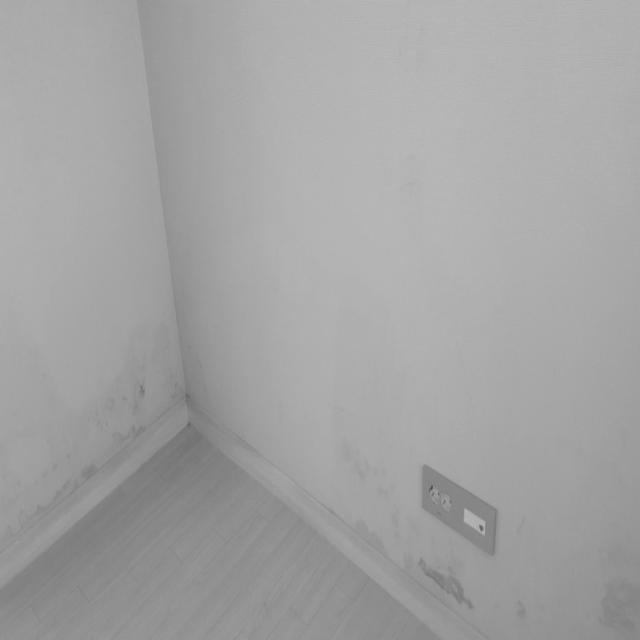stain marks: (9, 326, 185, 522), (338, 434, 476, 610), (514, 536, 636, 630)
